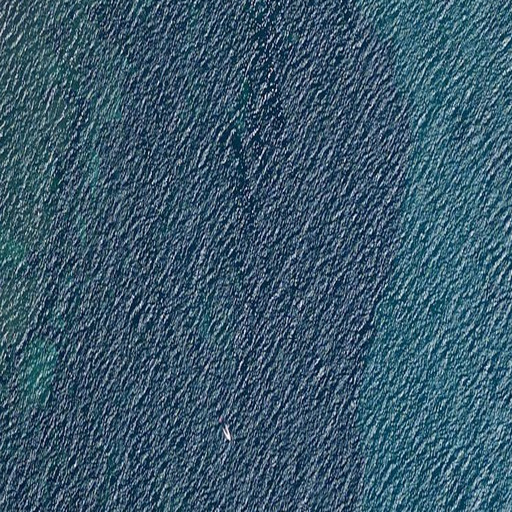ship: (221, 423, 232, 441)
